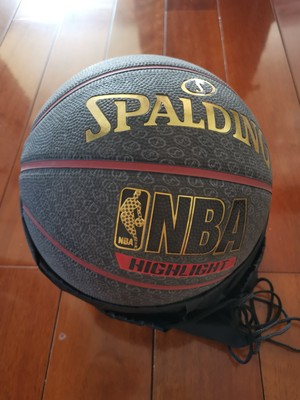ball: (18, 53, 273, 307)
